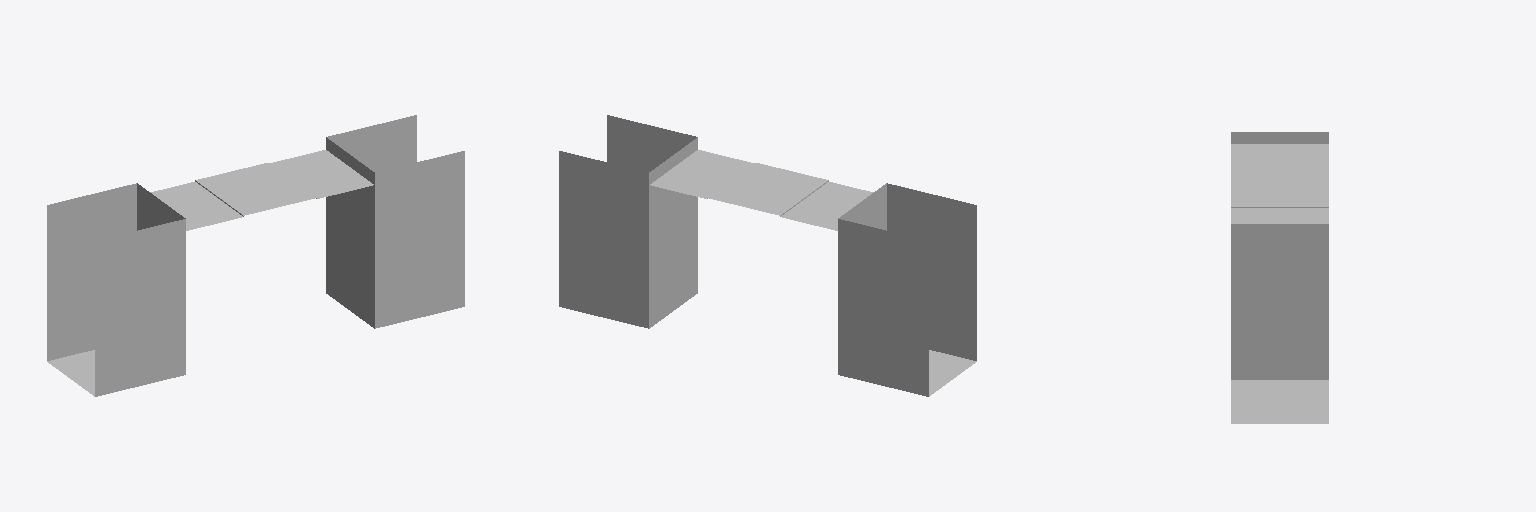
File: GreyBlockout.obj
The picture shows the model from 3 angles: view 1: azimuth 30°, elevation 25°; view 2: azimuth 150°, elevation 25°; view 3: azimuth 270°, elevation 25°; orthographic projection.
Visible parts, largest first — view 1: Chunk_Plane.005; view 2: Chunk_Plane.005; view 3: Chunk_Plane.005.
Boxes of the visible parts, box(x1,y1,x2,y2) form: Chunk_Plane.005: box(47, 115, 464, 396); Chunk_Plane.005: box(559, 115, 976, 396); Chunk_Plane.005: box(1231, 132, 1328, 423).
Bounding box in the file's own units: 330 × 133 × 75.